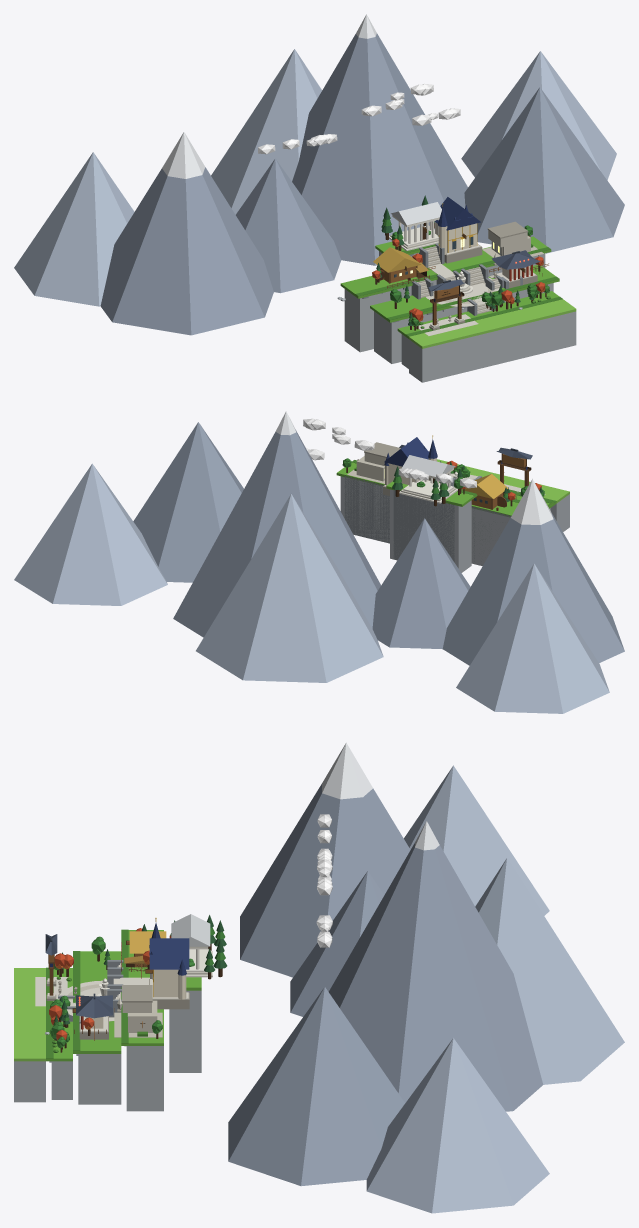
The model's file is wisdom-village_detailed_backup.glb.
3 renders of one model, top to bottom at view 1: azimuth 30°, elevation 25°; view 2: azimuth 150°, elevation 25°; view 3: azimuth 270°, elevation 25°, orthographic. The views are drawn at different scales.
Parts seen in each view (by area): view 1: Peak_1, Peak_0, Peak_2, Peak_3, Peak_6, Peak_5, Apron_rock, Peak_4, Apron_grass, L2_rock, L1_rock, L2_grass (+10 smaller); view 2: Peak_5, Peak_1, Peak_3, Peak_4, Peak_0, Peak_2, Peak_6, L2_rock, L3_rock_band, L2_rock_band, L3_rock, PeakSnow_0 (+7 smaller); view 3: Peak_1, Peak_2, Peak_4, Peak_0, Peak_5, Peak_3, Peak_6, Apron_grass, L2_rock, L3_rock, L1_rock, PeakSnow_0 (+8 smaller).
Boxes of the visible parts, <box> form: Peak_1: <box>292,33,467,265</box>; Peak_0: <box>100,167,273,335</box>; Peak_2: <box>464,87,624,253</box>; Peak_3: <box>14,152,134,306</box>; Peak_6: <box>236,158,341,293</box>; Peak_5: <box>211,49,321,214</box>; Apron_rock: <box>409,311,576,382</box>; Peak_4: <box>461,51,616,180</box>; Apron_grass: <box>409,299,576,348</box>; L2_rock: <box>344,253,545,352</box>; L1_rock: <box>374,283,553,363</box>; L2_grass: <box>340,236,551,298</box>; Peak_5: <box>196,494,383,682</box>; Peak_1: <box>173,429,380,637</box>; Peak_3: <box>456,563,609,713</box>; Peak_4: <box>14,463,167,605</box>; Peak_0: <box>442,512,624,665</box>; Peak_2: <box>133,422,243,582</box>; Peak_6: <box>372,518,470,649</box>; L2_rock: <box>340,476,510,565</box>; L3_rock_band: <box>393,489,454,561</box>; L2_rock_band: <box>344,475,511,565</box>; L3_rock: <box>390,489,471,572</box>; PeakSnow_0: <box>510,479,553,524</box>; Peak_1: <box>329,843,543,1111</box>; Peak_2: <box>228,987,405,1186</box>; Peak_4: <box>366,1038,549,1213</box>; Peak_0: <box>240,784,410,977</box>; Peak_5: <box>475,858,624,1084</box>; Peak_3: <box>404,765,549,915</box>; Peak_6: <box>290,871,384,1016</box>; Apron_grass: <box>14,968,45,1061</box>; L2_rock: <box>126,1046,163,1111</box>; L3_rock: <box>169,990,201,1072</box>; L1_rock: <box>78,1054,121,1104</box>; PeakSnow_0: <box>322,742,372,799</box>.
Bounding box in the file's own units: 151 × 53.3 × 114.
